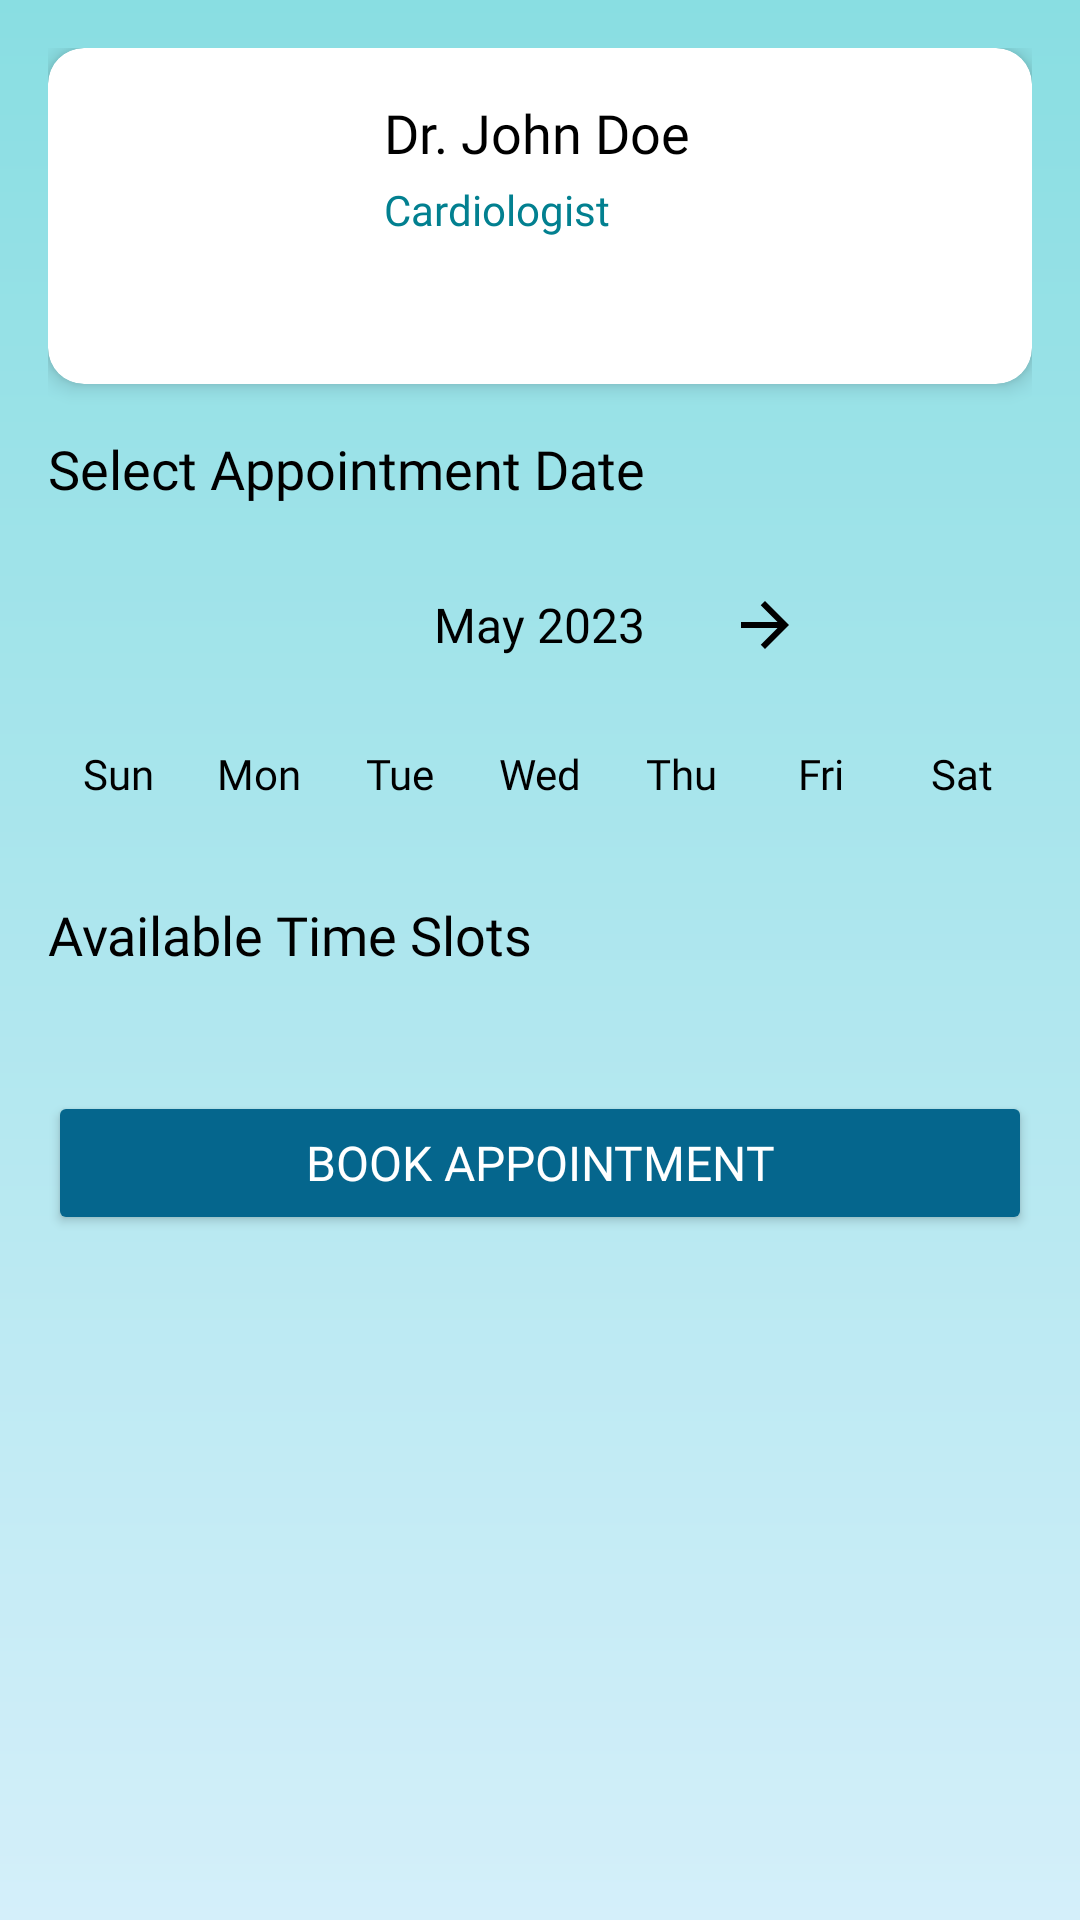

Where to tap for icons on this 1080×1920 app screen, as (x=x, y=y):
arrow right: (x=765, y=625)
